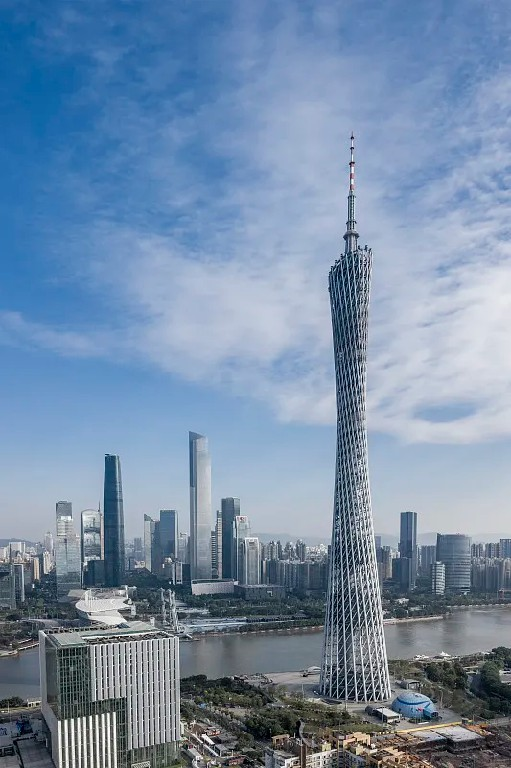Canton: (320, 129, 388, 702)
